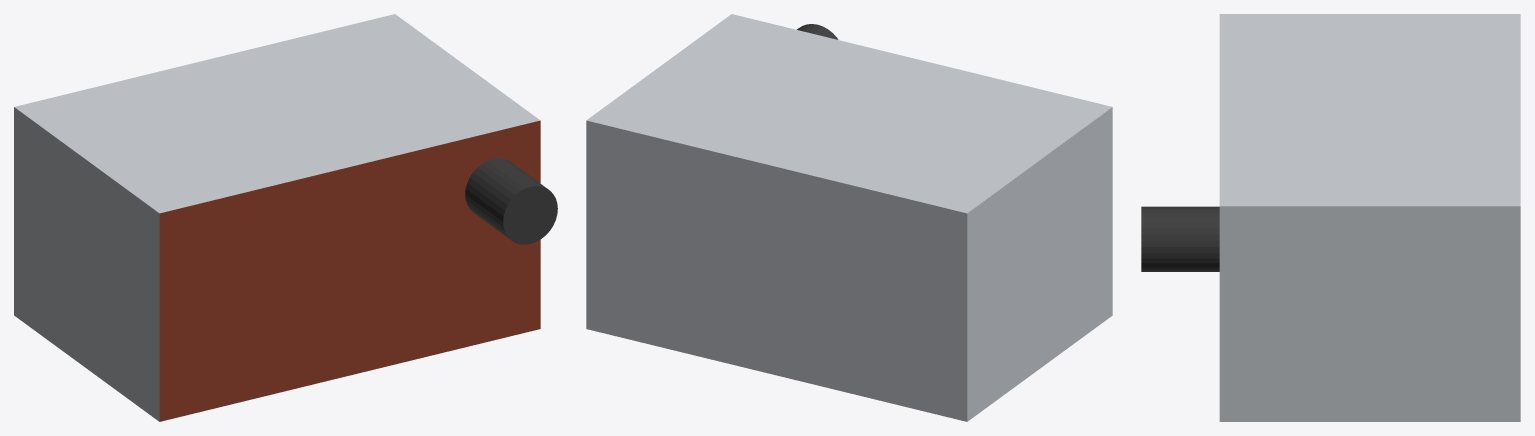
File: autoprocessor.glb
3 renders of one model, left to right at view 1: azimuth 30°, elevation 25°; view 2: azimuth 150°, elevation 25°; view 3: azimuth 270°, elevation 25°, orthographic. The views are drawn at different scales.
Visible parts, largest first — view 1: Cube.009, Cylinder.006; view 2: Cube.009; view 3: Cube.009, Cylinder.006.
Part boxes in pixels (box(x1,y1,x2,y2)): Cube.009: box(14, 14, 540, 421); Cylinder.006: box(465, 158, 557, 244); Cube.009: box(586, 14, 1112, 421); Cube.009: box(1219, 14, 1520, 421); Cylinder.006: box(1141, 206, 1219, 271).
Bounding box in the file's own units: 2 × 1.11 × 1.67.
